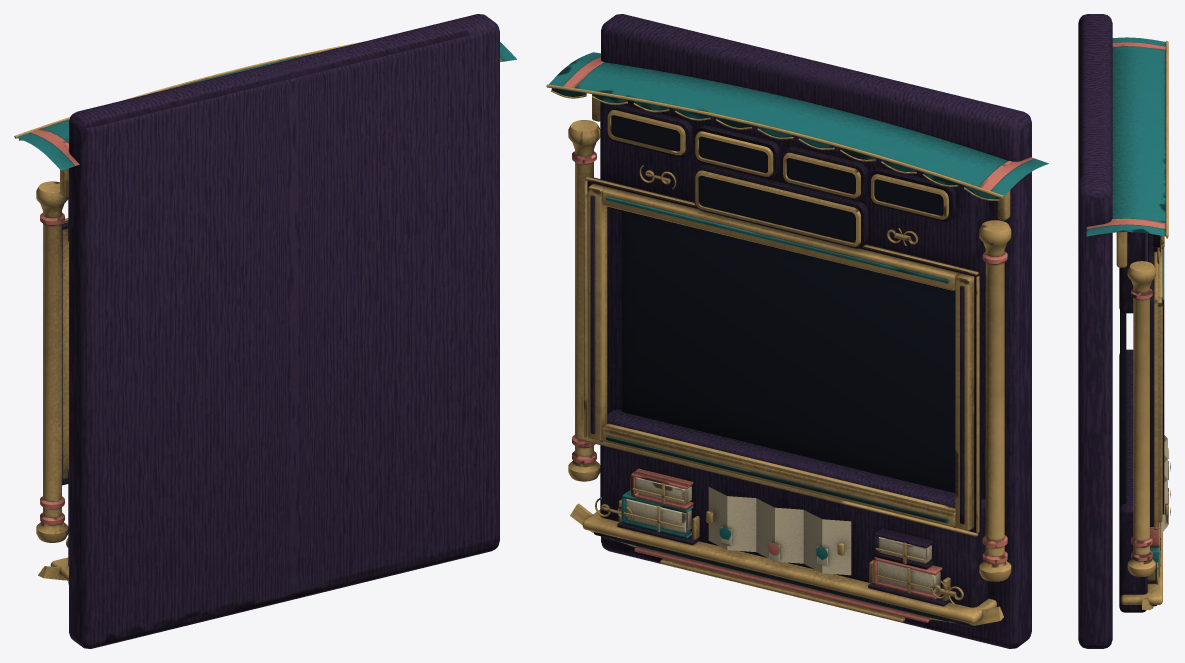
3 views of the same model, side by side, from view 1: azimuth 30°, elevation 25°; view 2: azimuth 150°, elevation 25°; view 3: azimuth 270°, elevation 25° (orthographic). The views are drawn at different scales.
Visible parts, largest first — view 1: Violet_lacquer, Library_brass, Teal_cloth, Coral_bindings; view 2: Violet_lacquer, Uniform_dark_inset, Library_brass, Teal_cloth, Warm_paper, Coral_bindings; view 3: Violet_lacquer, Teal_cloth, Library_brass, Coral_bindings, Uniform_dark_inset, Warm_paper.
Part boxes in pixels (<box>): Violet_lacquer: <box>62,14,499,648</box>; Library_brass: <box>14,42,361,581</box>; Teal_cloth: <box>16,42,516,170</box>; Coral_bindings: <box>31,58,502,525</box>; Violet_lacquer: <box>587,14,1031,648</box>; Uniform_dark_inset: <box>611,115,955,492</box>; Library_brass: <box>546,84,1011,625</box>; Teal_cloth: <box>549,52,1048,621</box>; Warm_paper: <box>626,477,940,593</box>; Coral_bindings: <box>563,57,1034,622</box>; Violet_lacquer: <box>1078,14,1164,648</box>; Teal_cloth: <box>1086,37,1170,576</box>; Library_brass: <box>1116,41,1168,610</box>; Coral_bindings: <box>1086,42,1170,561</box>; Uniform_dark_inset: <box>1120,236,1161,504</box>; Warm_paper: <box>1159,435,1168,535</box>.
Bounding box in the file's own units: 8.85 × 9.8 × 1.78.
Materials: 6 (6 with a texture image).
